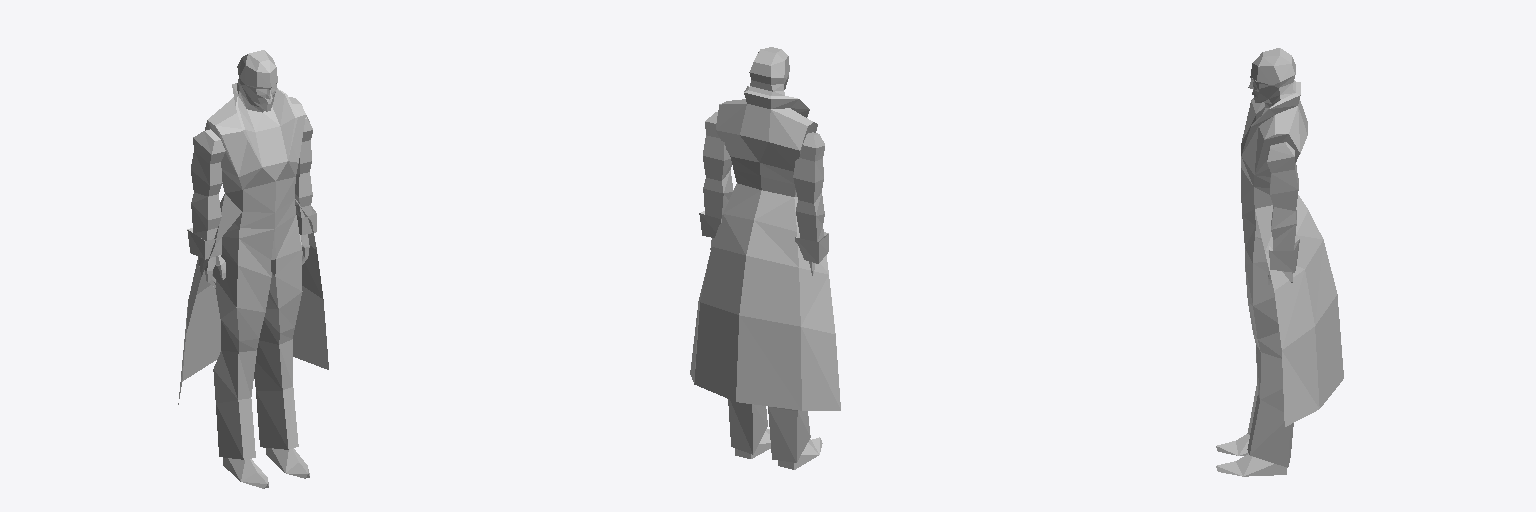
File: Metal Gear Solid Intergral - Revolver Ocelot.obj
The picture shows the model from 3 angles: view 1: azimuth 30°, elevation 25°; view 2: azimuth 150°, elevation 25°; view 3: azimuth 270°, elevation 25°; orthographic projection.
Parts seen in each view (by area): view 1: Outer_Upper_Legs, Outer_Lower_Legs, Skirt_Split, Lower_Chest, Inner_Lower_Legs, Lower_Arms, Feet, Inner_Collar, Upper_Chest, Hip_Front, Side_Upper_Arm, Skirt_Lower_Sides (+10 smaller); view 2: Skirt_Split, Back, Skirt_Top, Skirt_Inner_Right, Inner_Lower_Legs, Skirt_Inner_Left, Lower_Arms, Skirt_Lower_Sides, Sash_Front_Upper_Arm, Front_Upper_Arm, Head_Back, Arm_Sleeves (+2 smaller); view 3: Skirt_Split, Outer_Lower_Legs, Outer_Upper_Legs, Skirt_Lower_Sides, Sash_Side_Upper_Arm, Skirt_Inner_Left, Feet, Lower_Chest, Chest_Side, Head_Sides, Skirt_Top, Lower_Arms (+5 smaller).
Boxes of the visible parts, box(x1,y1,x2,y2) form: Outer_Upper_Legs: box(213, 225, 302, 340); Outer_Lower_Legs: box(213, 320, 298, 459); Skirt_Split: box(178, 285, 328, 404); Lower_Chest: box(222, 115, 305, 228); Inner_Lower_Legs: box(254, 317, 288, 449); Lower_Arms: box(187, 172, 316, 240); Feet: box(223, 448, 309, 488); Inner_Collar: box(232, 84, 297, 165); Upper_Chest: box(247, 107, 287, 166); Hip_Front: box(239, 215, 297, 259); Side_Upper_Arm: box(191, 131, 214, 195); Skirt_Lower_Sides: box(187, 246, 323, 328); Skirt_Split: box(690, 301, 840, 410); Back: box(716, 104, 807, 196); Skirt_Top: box(712, 183, 798, 267); Skirt_Inner_Right: box(739, 256, 800, 326); Inner_Lower_Legs: box(728, 399, 797, 462); Skirt_Inner_Left: box(700, 247, 745, 314); Lower_Arms: box(701, 170, 828, 241); Skirt_Lower_Sides: box(699, 252, 835, 333); Sash_Front_Upper_Arm: box(703, 112, 731, 180); Front_Upper_Arm: box(793, 132, 817, 203); Head_Back: box(749, 47, 787, 95); Arm_Sleeves: box(699, 213, 828, 263); Skirt_Split: box(1282, 294, 1343, 426); Outer_Lower_Legs: box(1247, 332, 1289, 467); Outer_Upper_Legs: box(1245, 237, 1278, 338); Skirt_Lower_Sides: box(1274, 270, 1314, 349); Sash_Side_Upper_Arm: box(1267, 145, 1298, 210); Skirt_Inner_Left: box(1305, 240, 1336, 325); Feet: box(1216, 434, 1286, 476); Lower_Chest: box(1241, 126, 1263, 225); Chest_Side: box(1253, 134, 1299, 225); Head_Sides: box(1255, 64, 1294, 102); Skirt_Top: box(1296, 195, 1323, 268); Lower_Arms: box(1269, 165, 1299, 250).
Size of the model in its own units: 35.7 by 92.3 by 26.25.